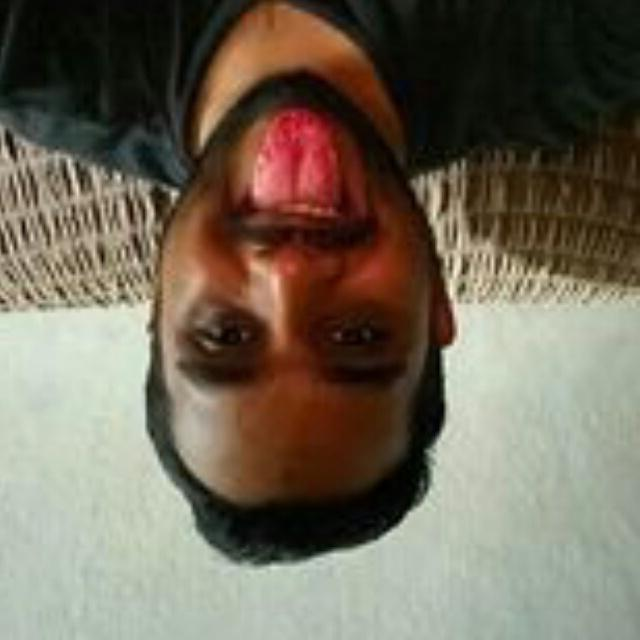Happy: (117, 106, 489, 555)
